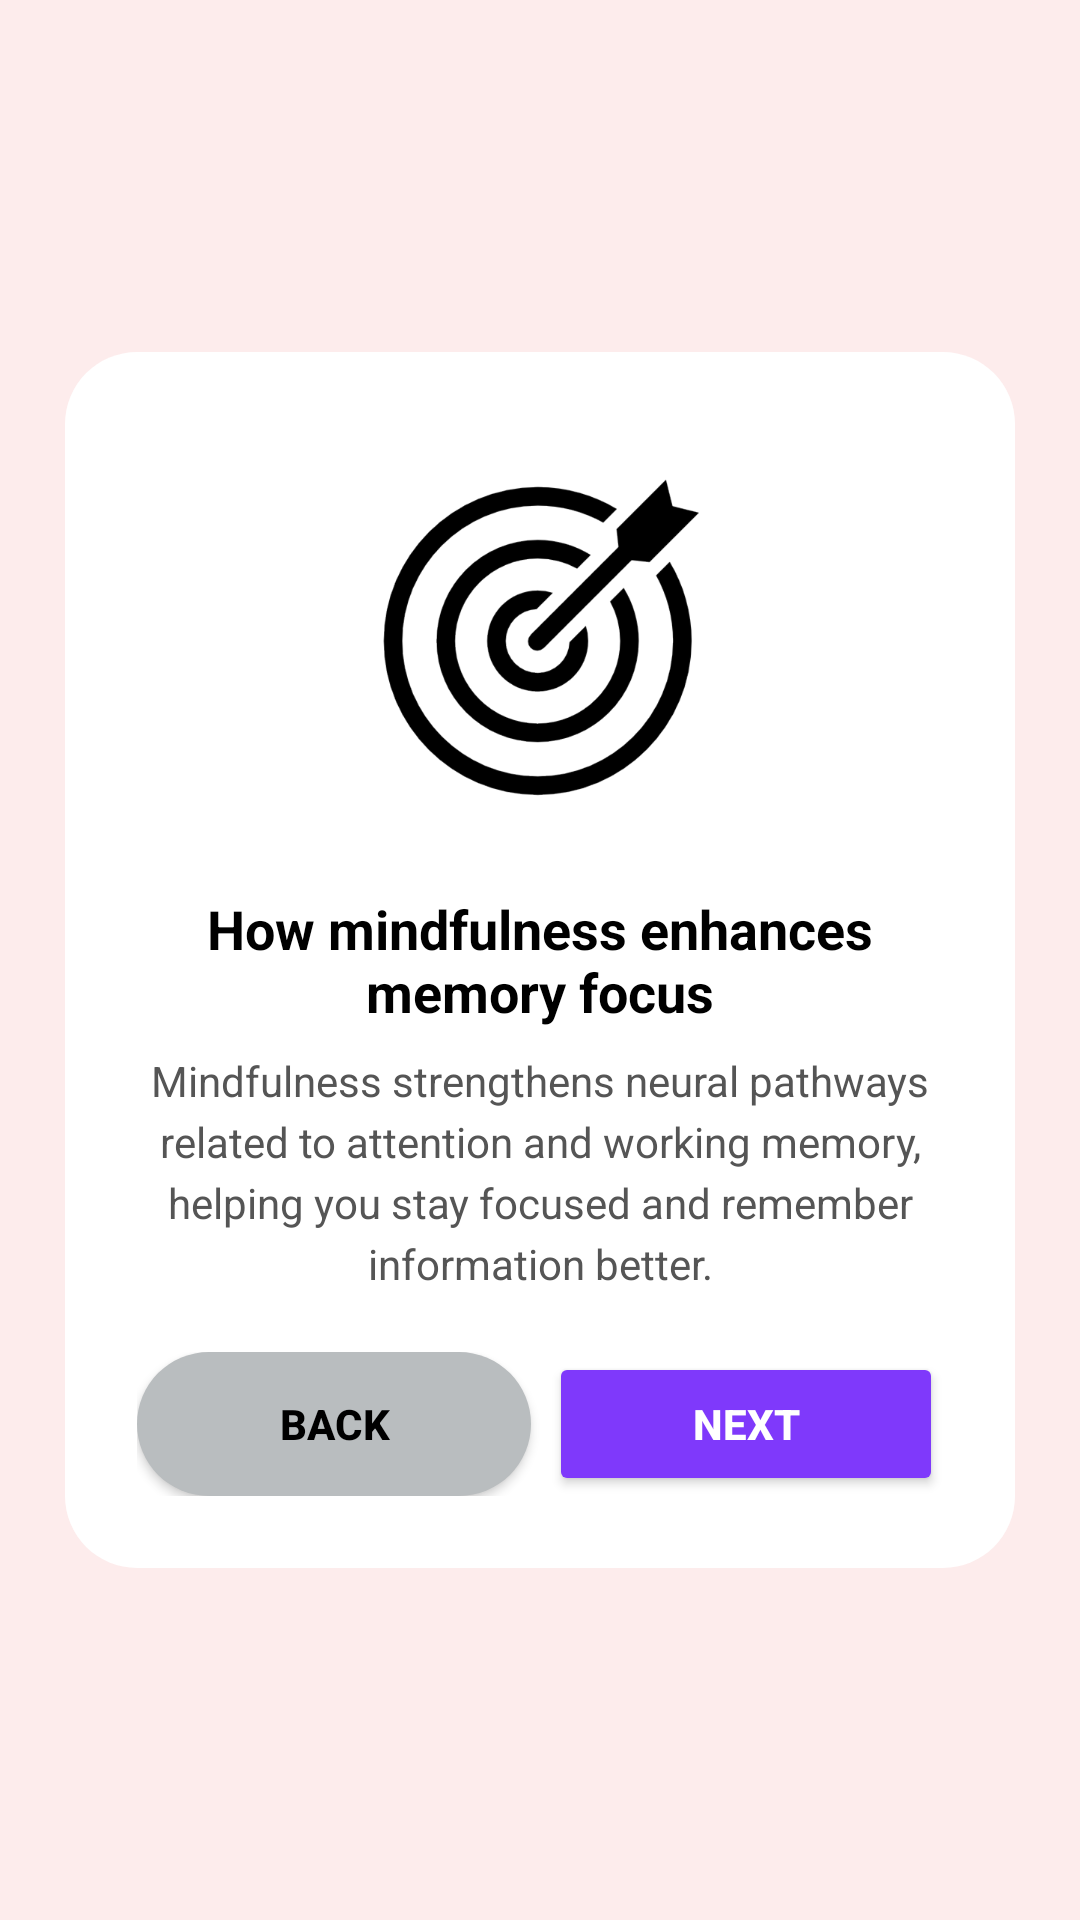

Screen size 1080px×1920px. Icon name, then its center in pixels as (x=x, y=y):
target: (x=541, y=638)
